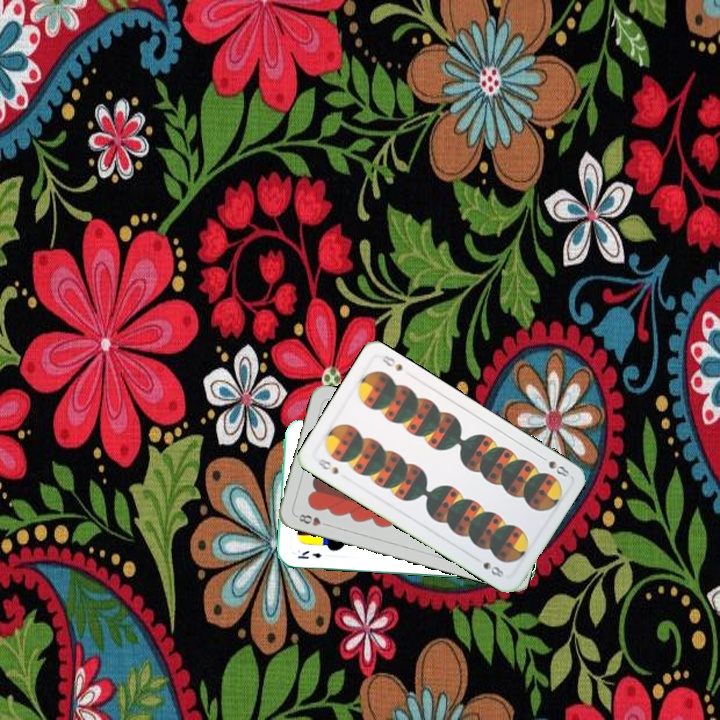EK: (294, 546, 324, 561)
H8: (292, 510, 332, 529)
S8: (535, 451, 572, 480), (312, 455, 341, 477)
